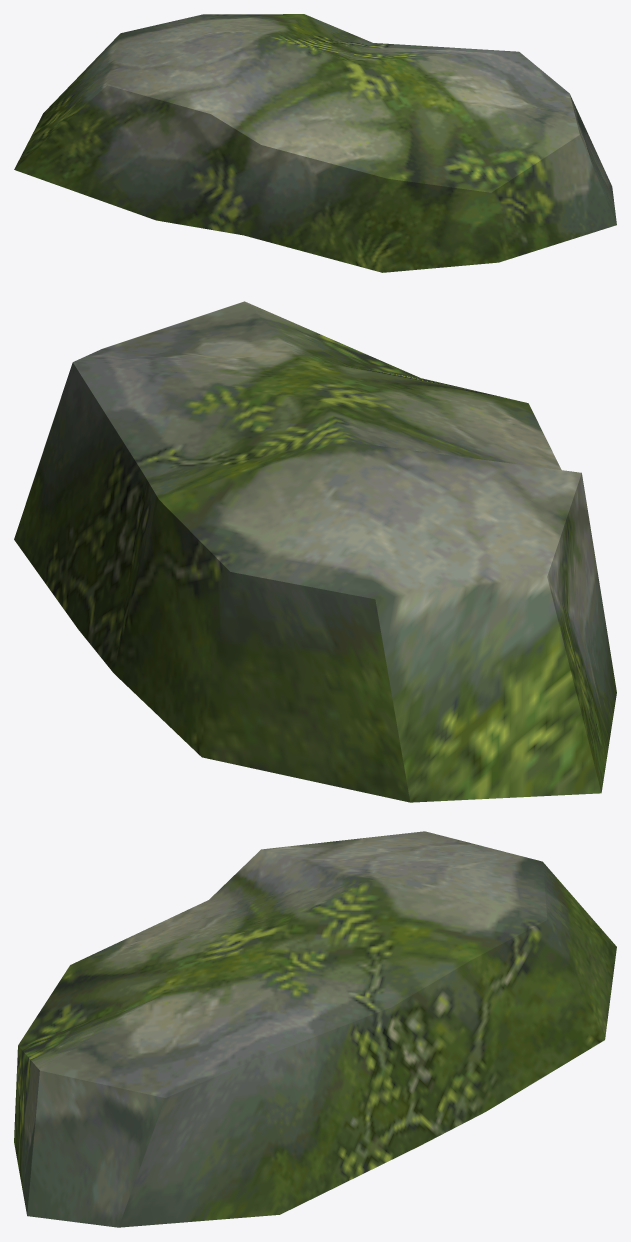
Rendered from yj_shitou_5.FBX.
3 views of the same model, one above another, from view 1: azimuth 30°, elevation 25°; view 2: azimuth 150°, elevation 25°; view 3: azimuth 270°, elevation 25° (orthographic). The views are drawn at different scales.
Parts seen in each view (by area): view 1: yj_shitou_5; view 2: yj_shitou_5; view 3: yj_shitou_5.
Part boxes in pixels (box(x1,y1,x2,y2)): yj_shitou_5: box(14, 14, 616, 272); yj_shitou_5: box(14, 301, 616, 802); yj_shitou_5: box(14, 831, 616, 1227).
Bounding box in the file's own units: 1309 × 418 × 1149.
